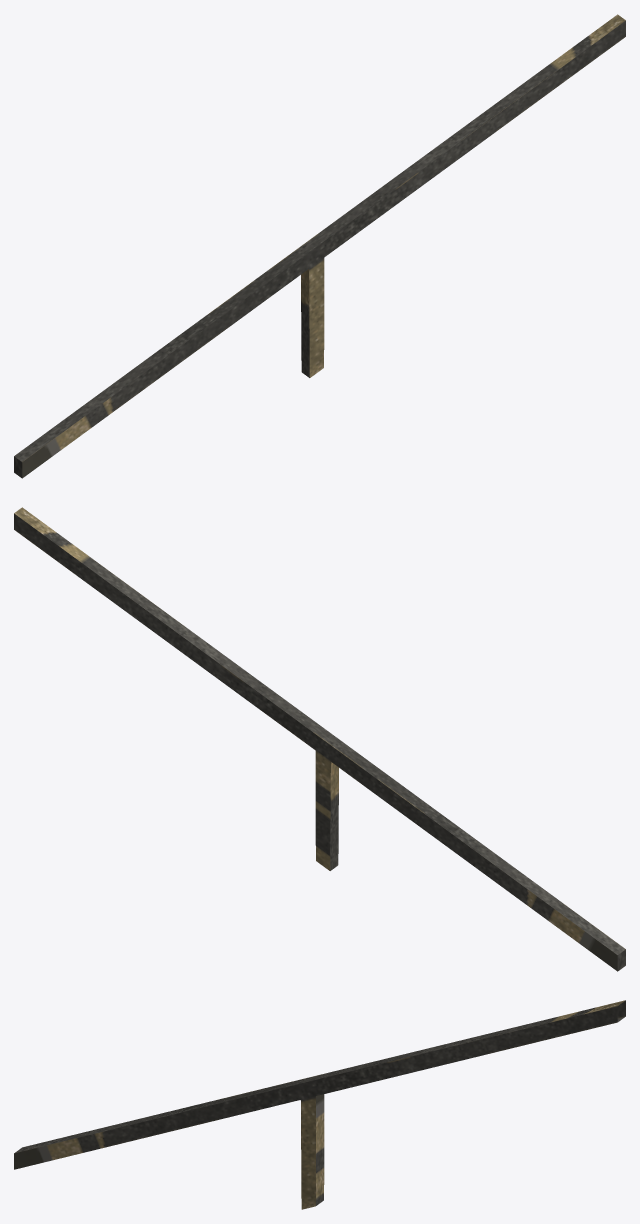
File: Lateral_pendiente_2.fbx
3 views of the same model, one above another, from view 1: azimuth 30°, elevation 25°; view 2: azimuth 150°, elevation 25°; view 3: azimuth 330°, elevation 25° (orthographic).
Visible parts, largest first — view 1: Cube.006; view 2: Cube.006; view 3: Cube.006.
Part boxes in pixels (left/top/right/bottom): Cube.006: left=14, top=14, right=625, bottom=478; Cube.006: left=14, top=507, right=625, bottom=971; Cube.006: left=14, top=1000, right=625, bottom=1209.
Size of the model in its own units: 3.62 by 1.78 by 0.0863.
